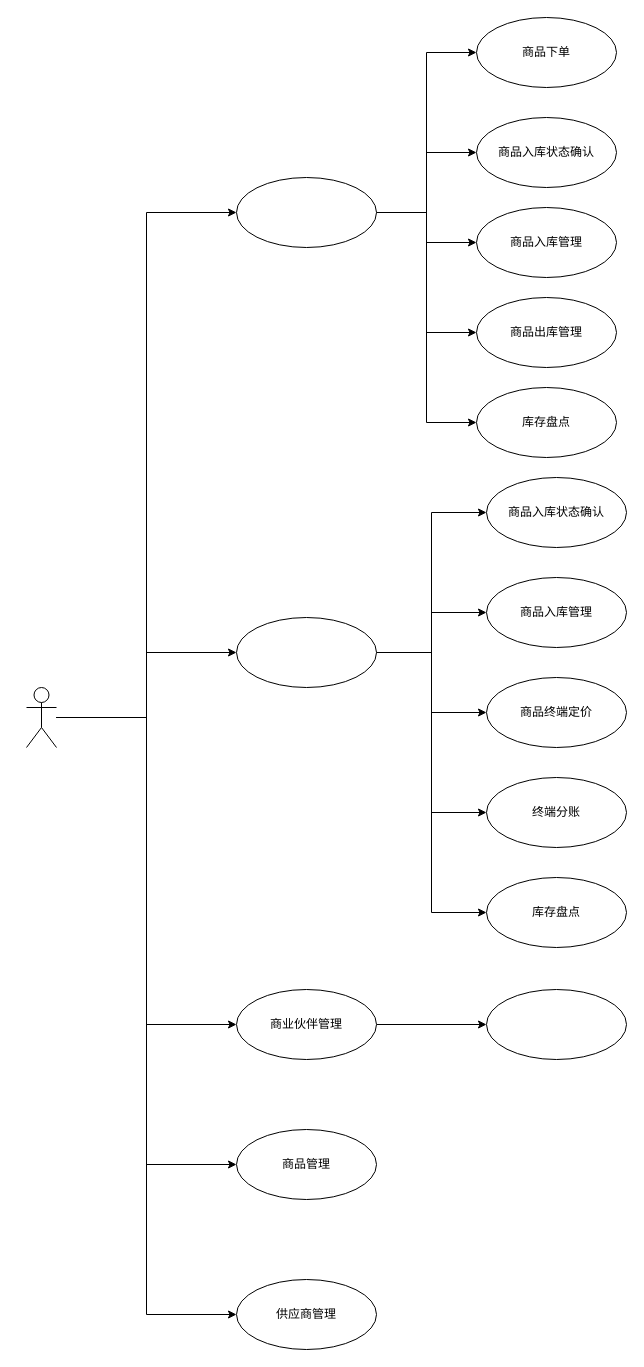
This 644x1367 diagram has some shape labels left out. Each missing label, with the centre of its shape:
"关联零售终端或前置仓" belongs at (556,1024).
"前置仓管理" belongs at (306,212).
"运营人员" belongs at (41,717).
"零售终端管理" belongs at (306,652).
